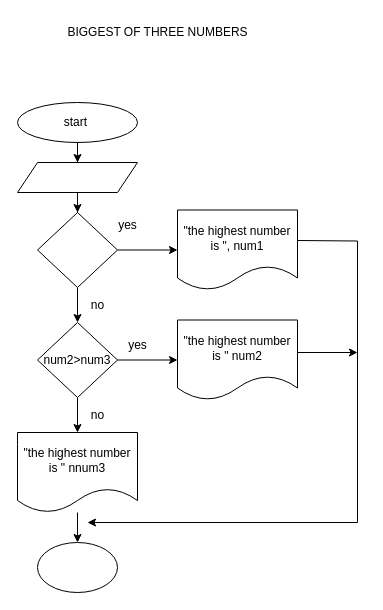
Some shapes in this 383 by 610 pixel diagram are drawn without their labels. Here are the shapes that lost their labels. From the top down, the box of each, then its label:
(16, 162, 138, 192): n1,n2,n3
(36, 212, 118, 288): n1>n2 n1>n3
(36, 542, 118, 592): end
